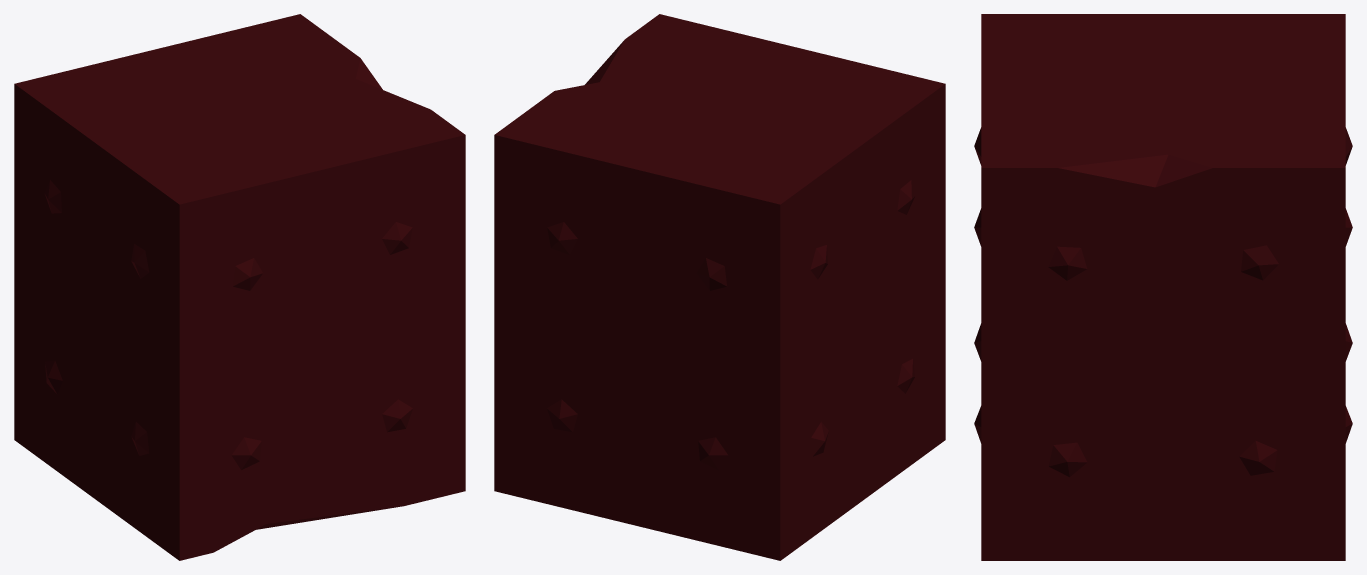
File: SW_ENV_PillarGirderBox_Drk.fbx
3 renders of one model, left to right at view 1: azimuth 30°, elevation 25°; view 2: azimuth 150°, elevation 25°; view 3: azimuth 270°, elevation 25°, orthographic. The views are drawn at different scales.
Parts seen in each view (by area): view 1: SW_ENV_PillarGirderBox_Drk; view 2: SW_ENV_PillarGirderBox_Drk; view 3: SW_ENV_PillarGirderBox_Drk.
Part boxes in pixels (left/top/right/bottom): SW_ENV_PillarGirderBox_Drk: left=14, top=14, right=465, bottom=560; SW_ENV_PillarGirderBox_Drk: left=494, top=14, right=945, bottom=560; SW_ENV_PillarGirderBox_Drk: left=974, top=14, right=1352, bottom=560.
Bounding box in the file's own units: 43.66 × 50 × 43.66.
